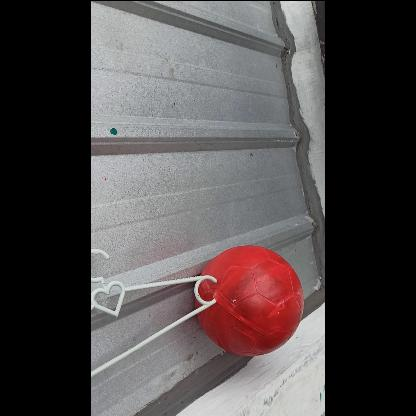red_ball: (195, 244, 304, 352)
